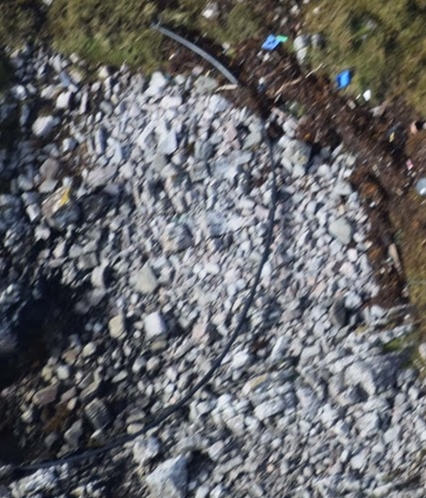together_barrel: (257, 31, 426, 200)
tube: (144, 329, 241, 428), (148, 21, 240, 88), (1, 432, 143, 472), (233, 215, 276, 328), (260, 135, 288, 213)
